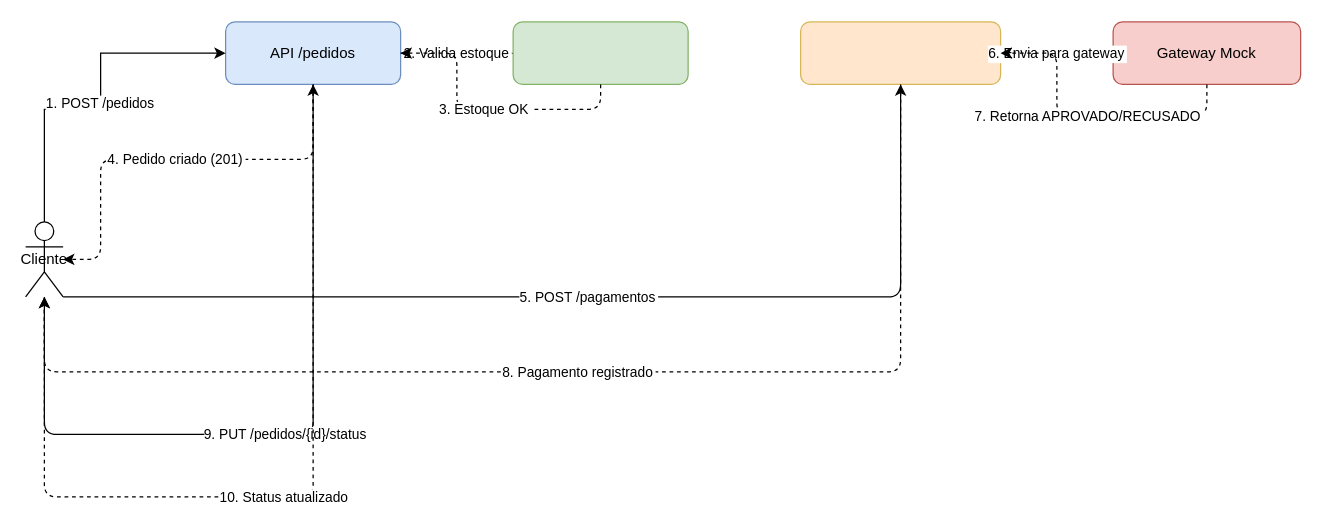
Some shapes in this 1323 by 529 pixel diagram are drawn without their labels. Each missing label, with the centre of its shape:
"API /pagamentos" goes at (900,52).
"Estoque" goes at (600,52).
